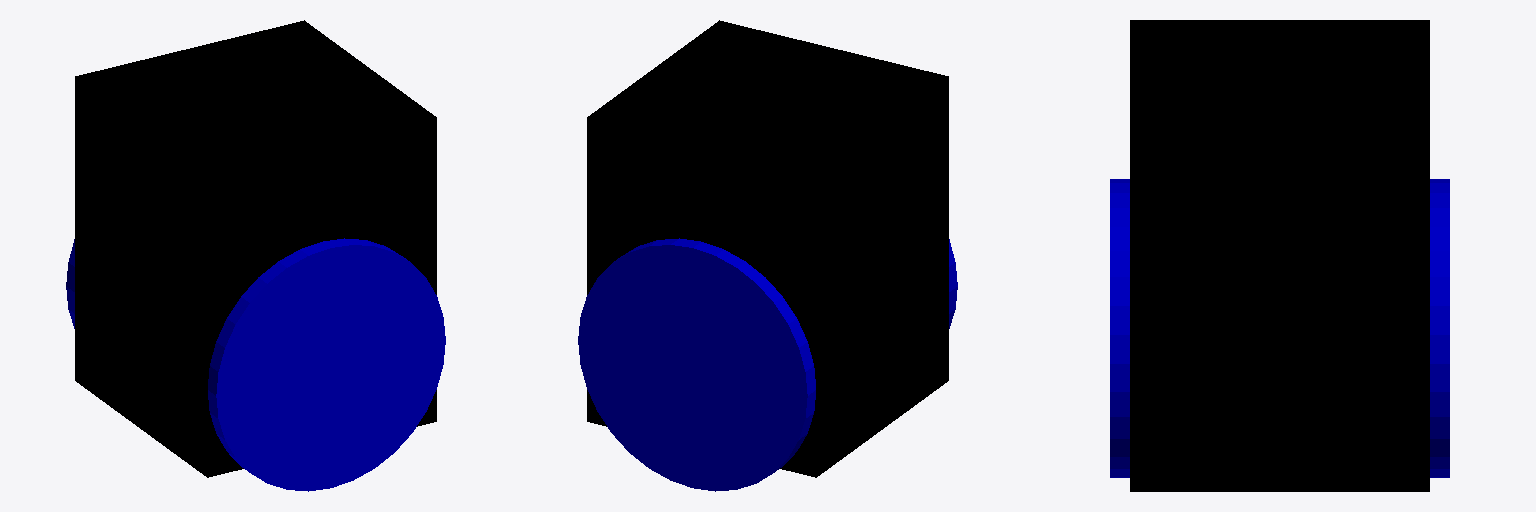
The robot description file, URDF, robot "test_robot":
<?xml version="1.0"?>
<robot name="test_robot">
  <link name="base_link">
    <visual name='visual'>
      <geometry>
        <box size="0.075 0.075 0.095"/>
      </geometry>
      <material name="black">
        <color rgba="0 0 0 1"/>
      </material>
    </visual>
    <collision>
      <geometry>
        <box size="0.075 0.075 0.095"/>
      </geometry>
    </collision>
    <inertial>
      <origin xyz="0 0 -0.05" rpy="0 0 0"/>
      <mass value="0.2"/>
      <inertia ixx="1e-2" ixy="0" ixz="0" iyy="1e-2" iyz="0" izz="1e-2"/>
    </inertial>
  </link>
  
  <link name="left_wheel_link">
    <visual name="visual">
      <geometry>
        <cylinder radius="0.0375" length="0.01"/>
      </geometry>
      <origin xyz="0 0 0" rpy="0 0 0"/>
      <material name="blue">
        <color rgba="0 0 .8 1"/>
      </material>
    </visual>
    <collision>
      <geometry>
        <cylinder radius="0.0375" length="0.01"/>
      </geometry>
    </collision>
    <inertial>
      <mass value="0.05"/>
      <inertia ixx="7e-5" ixy="0.0" ixz="0.0" iyy="7e-5" iyz="0.0" izz="7e-5"/>
    </inertial>
  </link>
  
  <link name="right_wheel_link">
    <visual name="visual">
      <geometry>
        <cylinder radius="0.0375" length="0.01"/>
      </geometry>
      <origin xyz="0 0 0" rpy="0 0 0"/>
      <material name="blue">
        <color rgba="0 0 .8 1"/>
      </material>
    </visual>
    <collision>
      <geometry>
        <cylinder radius="0.0375" length="0.01"/>
      </geometry>
    </collision>
    <inertial>
      <mass value="0.05"/>
      <inertia ixx="7e-5" ixy="0.0" ixz="0.0" iyy="7e-5" iyz="0.0" izz="7e-5"/>
    </inertial>
  </link>

  <joint name="left_joint" type="continuous">
    <parent link="base_link"/>
    <child link="left_wheel_link"/>
    <origin xyz="0 0.0375 -0.02" rpy="-1.57 0 0"/>
    <axis xyz="0 0 1" />
  </joint>
  
  <joint name="right_joint" type="continuous">
    <parent link="base_link"/>
    <child link="right_wheel_link"/>
    <origin xyz="0 -0.0375 -0.02" rpy="1.57 0 0"/>
    <axis xyz="0 0 1" />
  </joint>
  
  <gazebo>
    <plugin name="differential_drive_controller" filename="libgazebo_ros_diff_drive.so">
      <alwaysOn>true</alwaysOn>
      <updateRate>1000</updateRate>
      <leftJoint>left_joint</leftJoint>
      <rightJoint>right_joint</rightJoint>
      <wheelSeparation>0.075</wheelSeparation>
      <wheelDiameter>0.075</wheelDiameter>
      <torque>0.2</torque>
      <commandTopic>cmd_vel</commandTopic>
      <odometryTopic>odom</odometryTopic>
      <odometryFrame>odom</odometryFrame>
      <robotBaseFrame>base_link</robotBaseFrame>
    </plugin>
  </gazebo>
</robot>

--- Facts derived from the render (not from the file) ---
Views: 3 orthographic renders of the robot side by side, from view 1: azimuth 30°, elevation 25°; view 2: azimuth 150°, elevation 25°; view 3: azimuth 270°, elevation 25°.
Robot: test_robot — 3 links, 2 joints (2 continuous); root link base_link; default pose: all joints at 0.
Visible links, largest first — view 1: base_link, right_wheel_link; view 2: base_link, left_wheel_link; view 3: base_link, left_wheel_link, right_wheel_link.
Boxes of the visible links, x1,y1,x2,y2 form: base_link: (75, 20, 436, 477); right_wheel_link: (208, 238, 445, 491); base_link: (587, 20, 948, 477); left_wheel_link: (578, 238, 815, 491); base_link: (1130, 20, 1429, 491); left_wheel_link: (1430, 179, 1449, 477); right_wheel_link: (1110, 179, 1129, 477).
Size in the robot's own frame: 0.075 by 0.0851 by 0.105 metres.
Geometry: primitives only (box / cylinder / sphere), no mesh files.